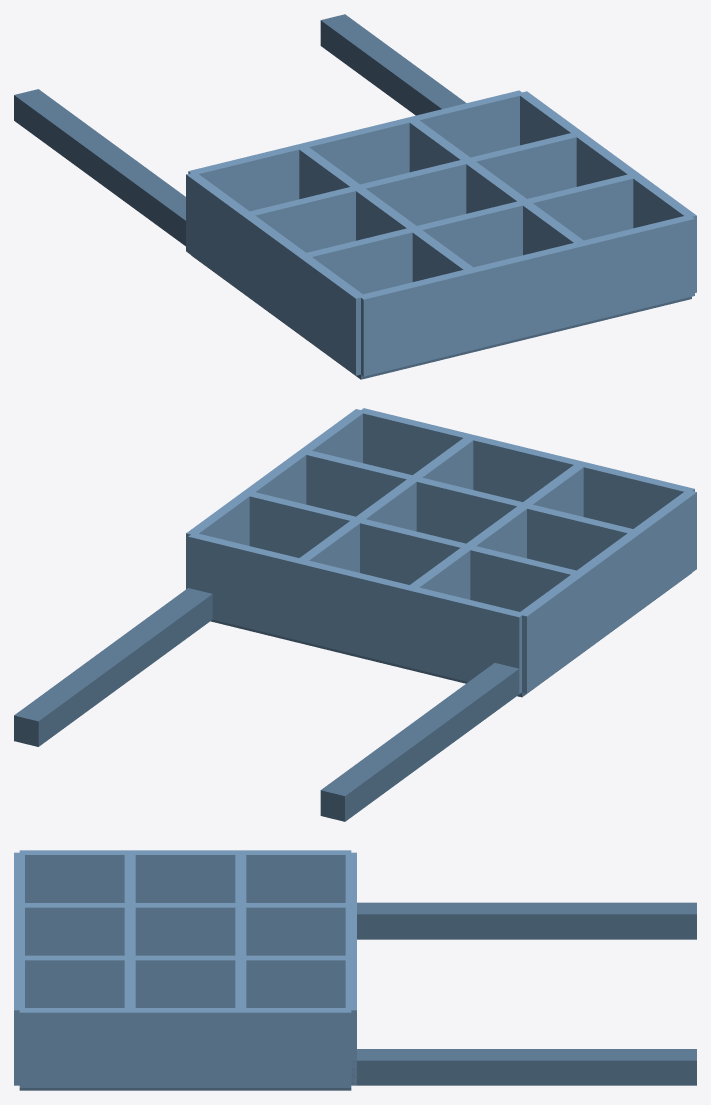
File: shelf_L.glb
The picture shows the model from 3 angles, top to bottom: view 1: azimuth 30°, elevation 25°; view 2: azimuth 150°, elevation 25°; view 3: azimuth 270°, elevation 25°; orthographic projection. The views are drawn at different scales.
Parts seen in each view (by area): view 1: world; view 2: world; view 3: world.
Part boxes in pixels (left/top/right/bottom): world: left=14, top=14, right=696, bottom=379; world: left=14, top=408, right=696, bottom=821; world: left=14, top=850, right=696, bottom=1090.
Bounding box in the file's own units: 0.556 × 0.128 × 0.988.
